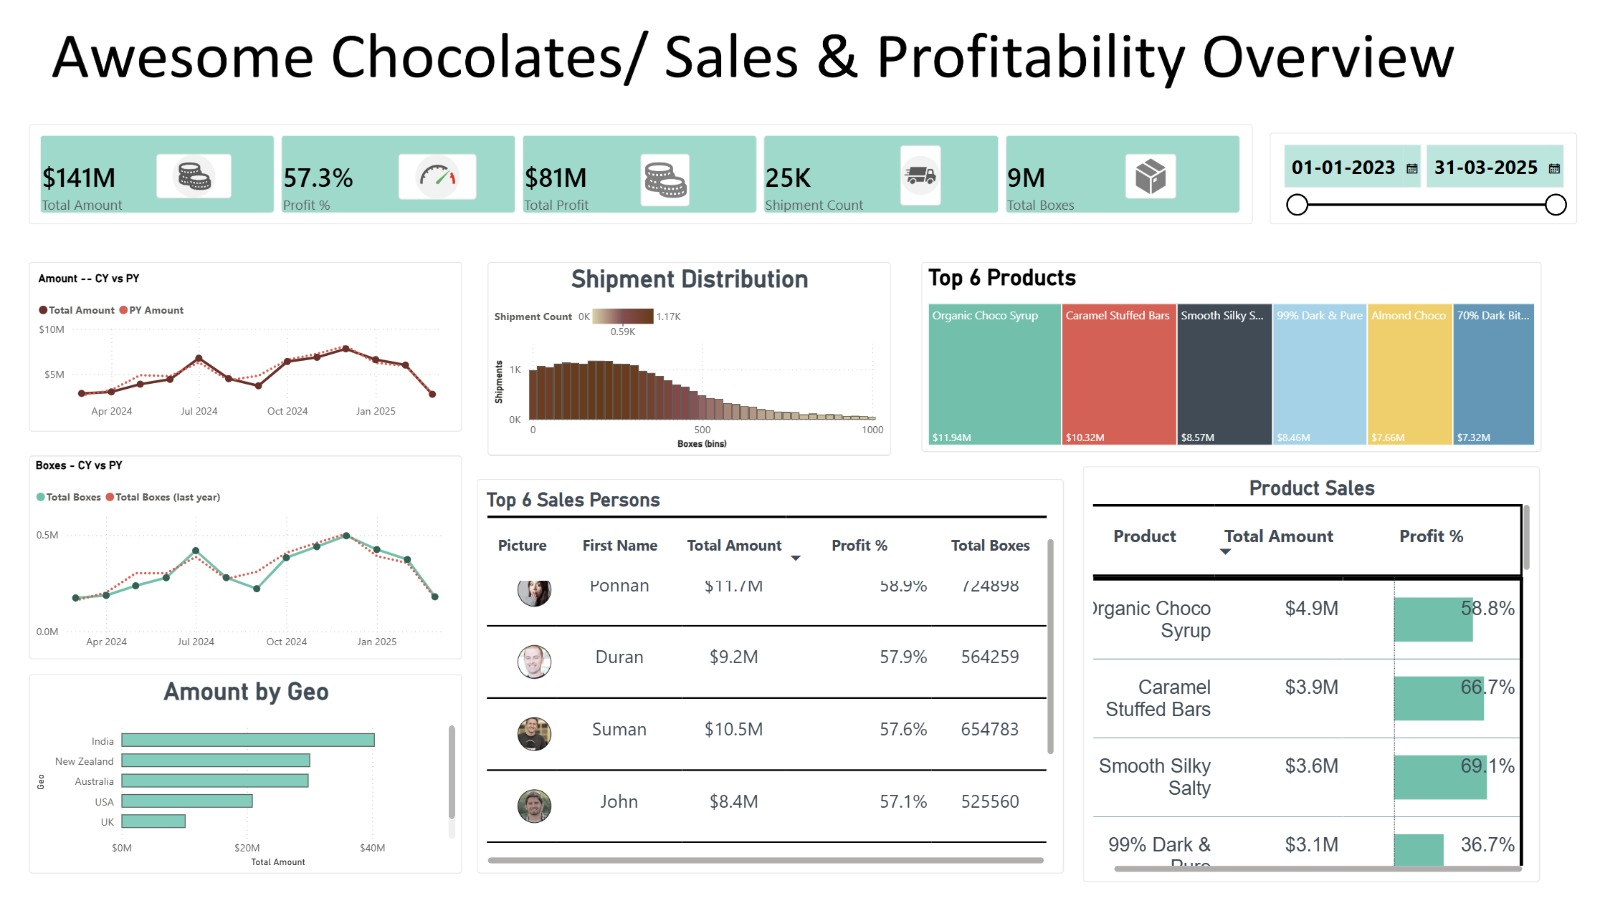

Layout of this report page (visuals, bound fields, positions):
{"tool":"powerbi","page":{"name":"BI Report","canvas":[1920,1080],"ordinal":5},"visuals":[{"type":"lineChart","title":"Amount -- CY vs PY","fields":{"Category":["calendar.Start of Month"],"Y":["shipments.Total Amount","shipments.PY Amount"]},"box":[34,312,510,200],"z":0},{"type":"lineChart","title":"Boxes - CY vs PY","fields":{"Category":["calendar.Start of Month"],"Y":["shipments.Total Boxes","shipments.Total Boxes (last year)"]},"box":[34,540,510,240],"z":1000},{"type":"barChart","title":"Amount by Geo","fields":{"Category":["locations.Geo"],"Y":["shipments.Total Amount"]},"box":[35,797.5,510,235],"z":2000},{"type":"clusteredColumnChart","title":"Shipment Distribution","fields":{"Category":["shipments.Boxes (bins)"],"Y":["shipments.Shipment Count"]},"box":[576,312,474,228],"z":3000},{"type":"tableEx","title":"Top 6 Sales Persons","fields":{"Values":["people.Picture","people.First Name","shipments.Total Amount","shipments.Profit %","shipments.Total Boxes"]},"box":[562.5,567.5,690,465],"z":4000},{"type":"treemap","title":"Top 6 Products","fields":{"Values":["shipments.Total Amount"],"Group":["products.Product"]},"box":[1084,312,730,224],"z":5000},{"type":"tableEx","title":"Product Sales","fields":{"Values":["products.Product","shipments.Total Amount","shipments.Profit %"]},"box":[1276,552,538,490],"z":6000},{"type":"cardVisual","fields":{"Data":["shipments.Total Amount","shipments.Profit %","shipments.Total Profit","shipments.Shipment Count","shipments.Total Boxes"]},"box":[34,150,1440,118],"z":7000},{"type":"image","box":[186,184,88.3,52.5],"z":8000},{"type":"image","box":[1326,184,60,53],"z":9000},{"type":"image","box":[1060,176,48,71],"z":10000},{"type":"image","box":[754,184,58,62],"z":11000},{"type":"image","box":[470,184,92,54],"z":12000},{"type":"slicer","fields":{"Values":["calendar.date table"]},"box":[1496,160,362,108],"z":13000}]}

Visuals, with their boxes in screenshot pixels (x1, y1, x2, y2), scaled from the page's 1920x1080 canvas onto the 1600x908 screenshot:
"Amount -- CY vs PY" lineChart: select_region(28, 262, 453, 430)
"Boxes - CY vs PY" lineChart: select_region(28, 454, 453, 656)
"Amount by Geo" barChart: select_region(29, 670, 454, 868)
"Shipment Distribution" clusteredColumnChart: select_region(480, 262, 875, 454)
"Top 6 Sales Persons" tableEx: select_region(469, 477, 1044, 868)
"Top 6 Products" treemap: select_region(903, 262, 1512, 451)
"Product Sales" tableEx: select_region(1063, 464, 1512, 876)
cardVisual - shipments.Total Amount x shipments.Profit %: select_region(28, 126, 1228, 225)
image: select_region(155, 155, 229, 199)
image: select_region(1105, 155, 1155, 199)
image: select_region(883, 148, 923, 208)
image: select_region(628, 155, 677, 207)
image: select_region(392, 155, 468, 200)
slicer - calendar.date table: select_region(1247, 135, 1548, 225)
